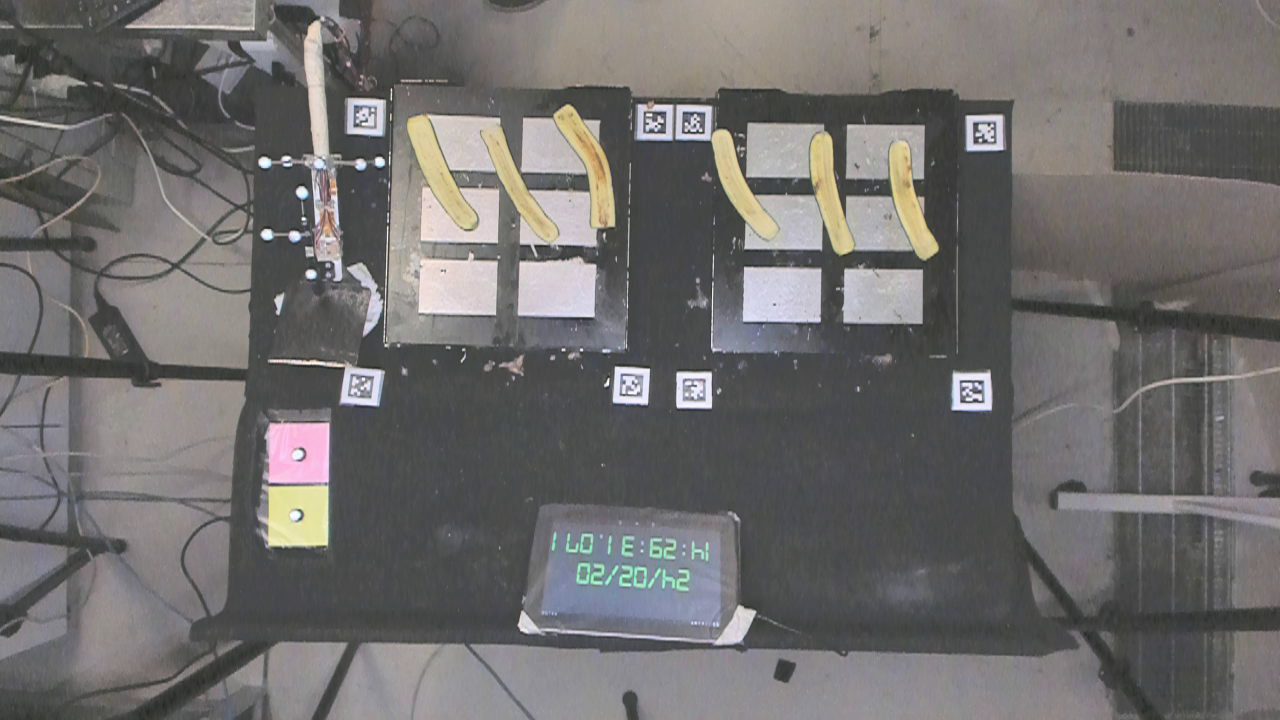marker: (262, 419, 333, 486)
zucchini: (476, 120, 568, 247), (795, 121, 868, 267), (555, 92, 629, 229), (879, 136, 955, 268), (700, 124, 781, 245), (404, 111, 479, 230)
